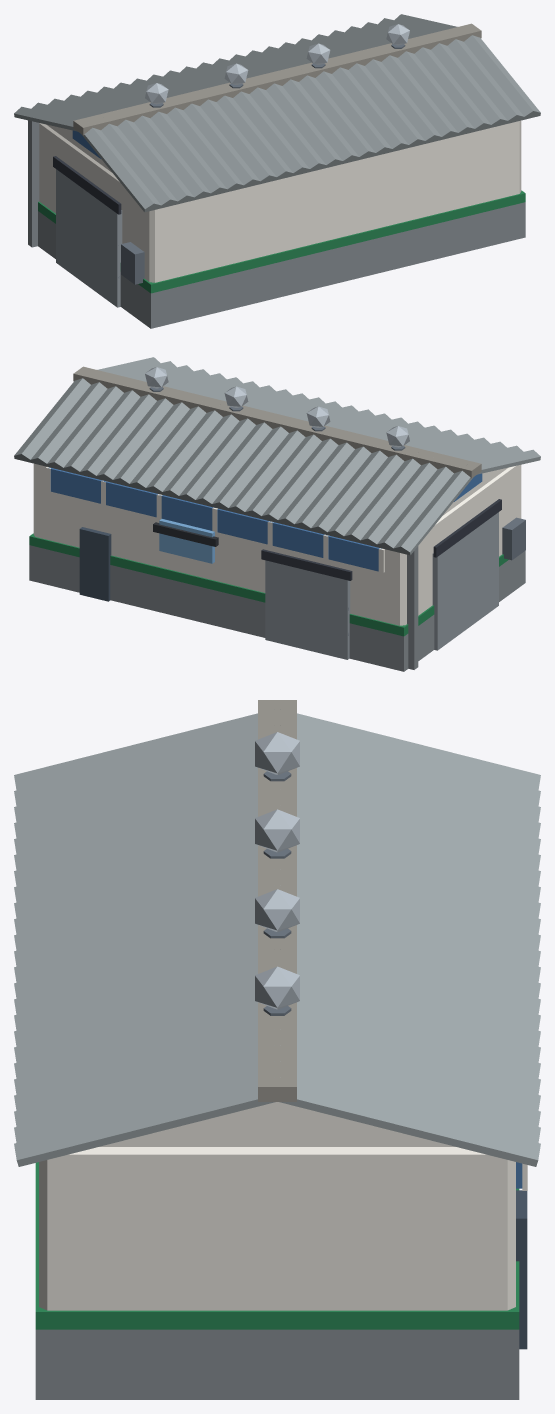
Rendered from galpao_comprido.glb.
3 renders of one model, top to bottom at view 1: azimuth 30°, elevation 25°; view 2: azimuth 150°, elevation 25°; view 3: azimuth 270°, elevation 25°, orthographic. The views are drawn at different scales.
Visible parts, largest first — view 1: corpo; view 2: corpo; view 3: corpo.
Boxes of the visible parts, box(x1,y1,x2,y2) form: corpo: box(14, 14, 540, 328); corpo: box(14, 357, 540, 671); corpo: box(14, 700, 540, 1399).
Size of the model in its own units: 1.65 by 0.7332 by 0.9497.
